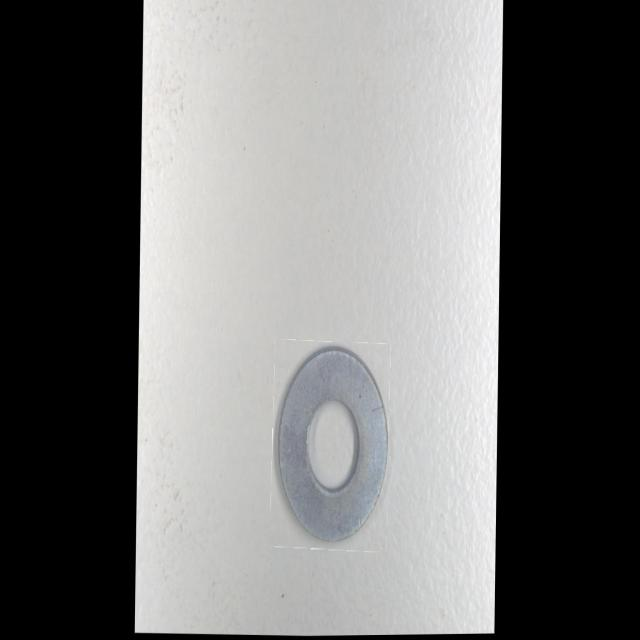washer: (272, 343, 388, 550)
